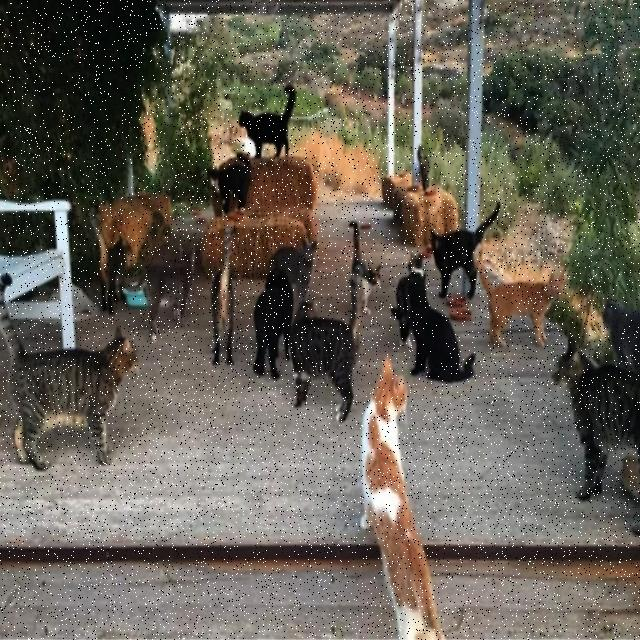cat: (0, 274, 138, 470), (361, 358, 442, 639), (552, 339, 640, 500), (290, 272, 361, 421), (476, 254, 562, 347), (408, 270, 475, 382), (124, 246, 194, 341), (431, 202, 499, 298), (254, 268, 292, 378), (239, 84, 296, 157), (91, 218, 129, 314), (211, 227, 234, 365), (270, 242, 316, 307), (349, 221, 381, 314), (208, 154, 251, 217), (602, 302, 640, 372), (391, 276, 411, 346), (418, 144, 430, 192), (408, 253, 424, 275)
